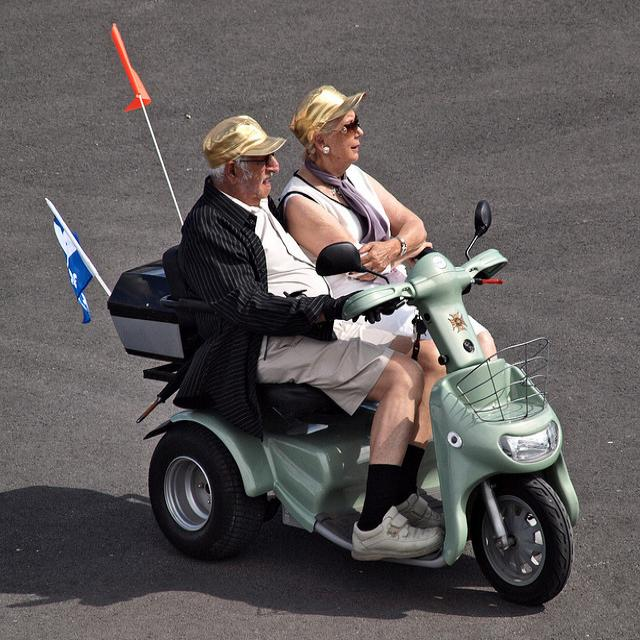motor: (134, 203, 581, 609)
